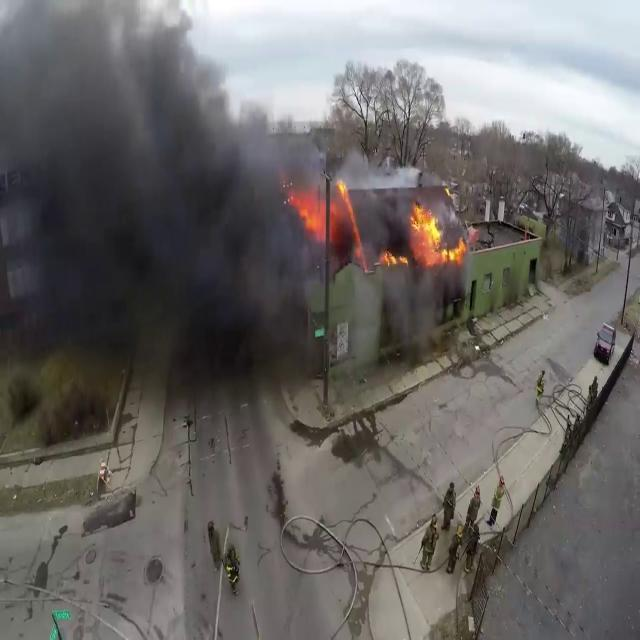Fire: (288, 169, 360, 239), (406, 195, 467, 268)
Smoke: (0, 0, 304, 431)
